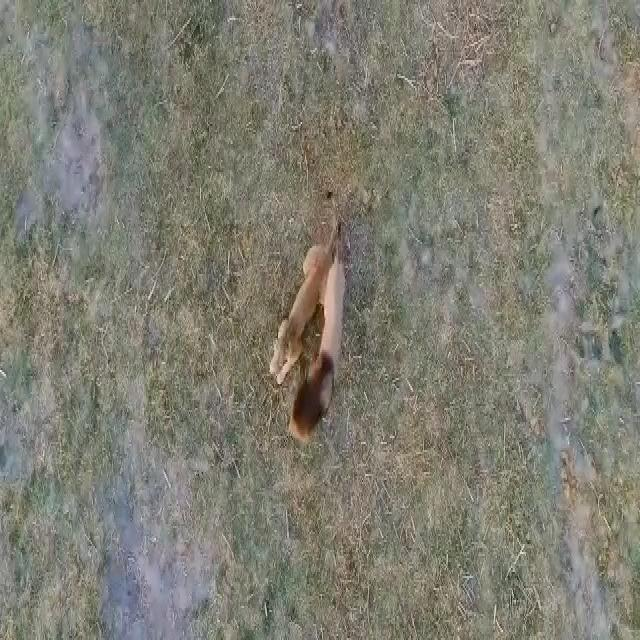Lion: (258, 242, 329, 376), (304, 284, 354, 466)
